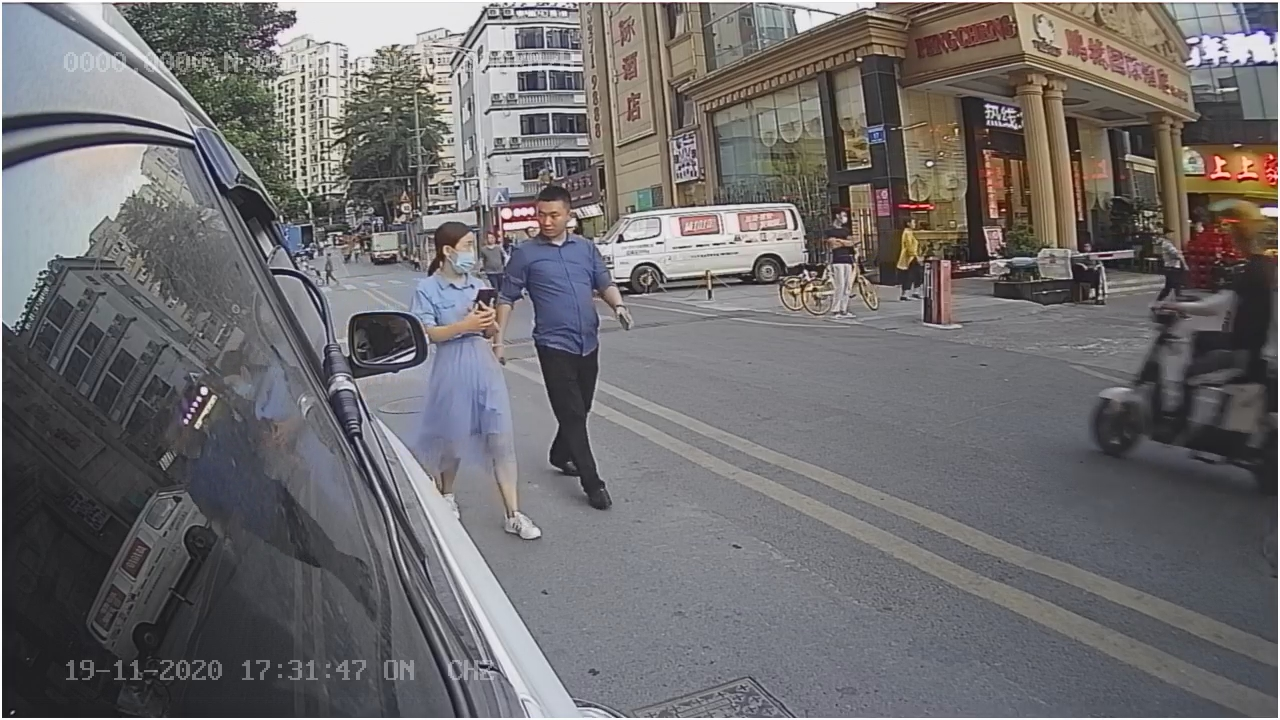person: (513, 191, 640, 472)
